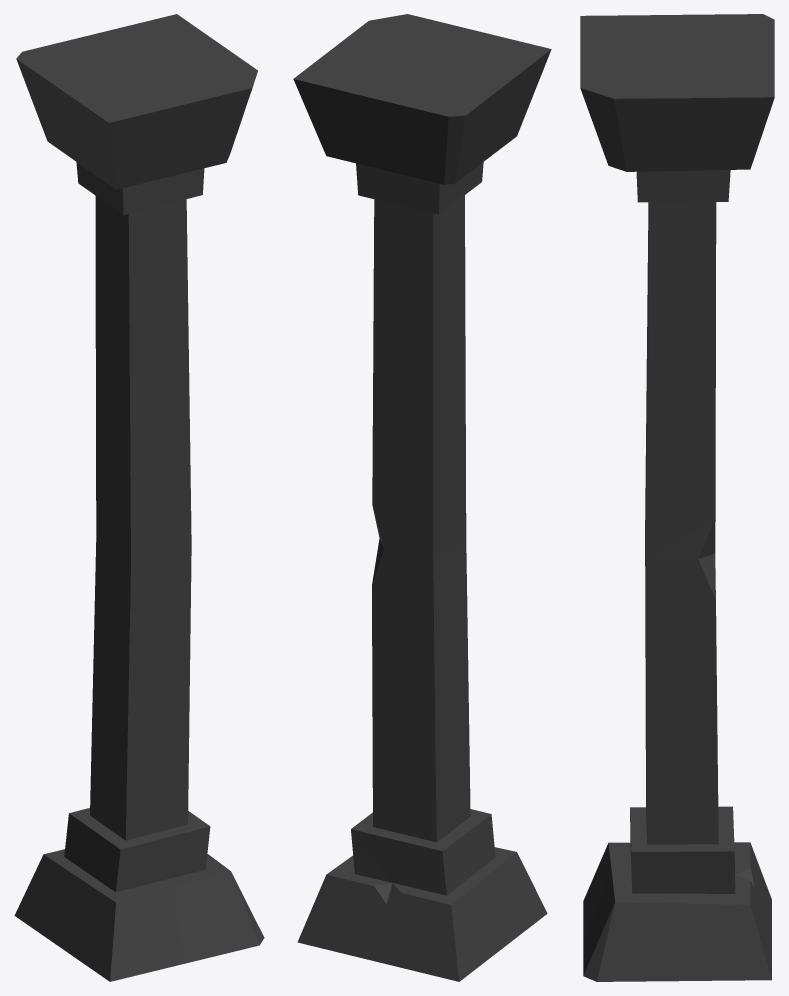
The model's file is Prison_Corner.gltf.
The picture shows the model from 3 angles, left to right: view 1: azimuth 30°, elevation 25°; view 2: azimuth 150°, elevation 25°; view 3: azimuth 270°, elevation 25°; orthographic projection. The views are drawn at different scales.
Parts seen in each view (by area): view 1: Prison_Corner2; view 2: Prison_Corner2; view 3: Prison_Corner2.
Part boxes in pixels (bbox=[...]): Prison_Corner2: bbox=[14, 14, 264, 981]; Prison_Corner2: bbox=[293, 14, 551, 981]; Prison_Corner2: bbox=[580, 14, 774, 981].
Size of the model in its own units: 0.1573 by 0.7642 by 0.1525.
1 material, 1 textured.
